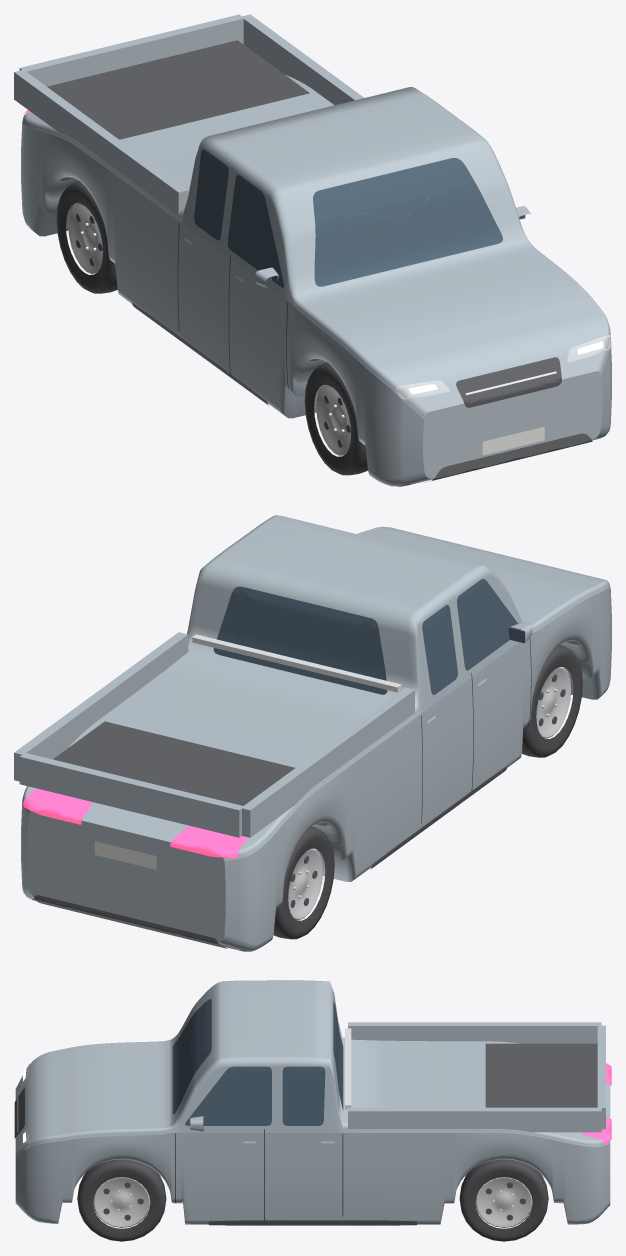
Rendered from car-pickup.glb.
3 views of the same model, one above another, from view 1: azimuth 30°, elevation 25°; view 2: azimuth 150°, elevation 25°; view 3: azimuth 270°, elevation 25° (orthographic). The views are drawn at different scales.
Parts seen in each view (by area): view 1: car-pickup; view 2: car-pickup; view 3: car-pickup.
Part boxes in pixels (x1,y1,x2,y2): car-pickup: (14, 14, 611, 486); car-pickup: (14, 515, 611, 951); car-pickup: (14, 980, 611, 1241).
Size of the model in its own units: 2.27 by 1.9 by 5.63.
